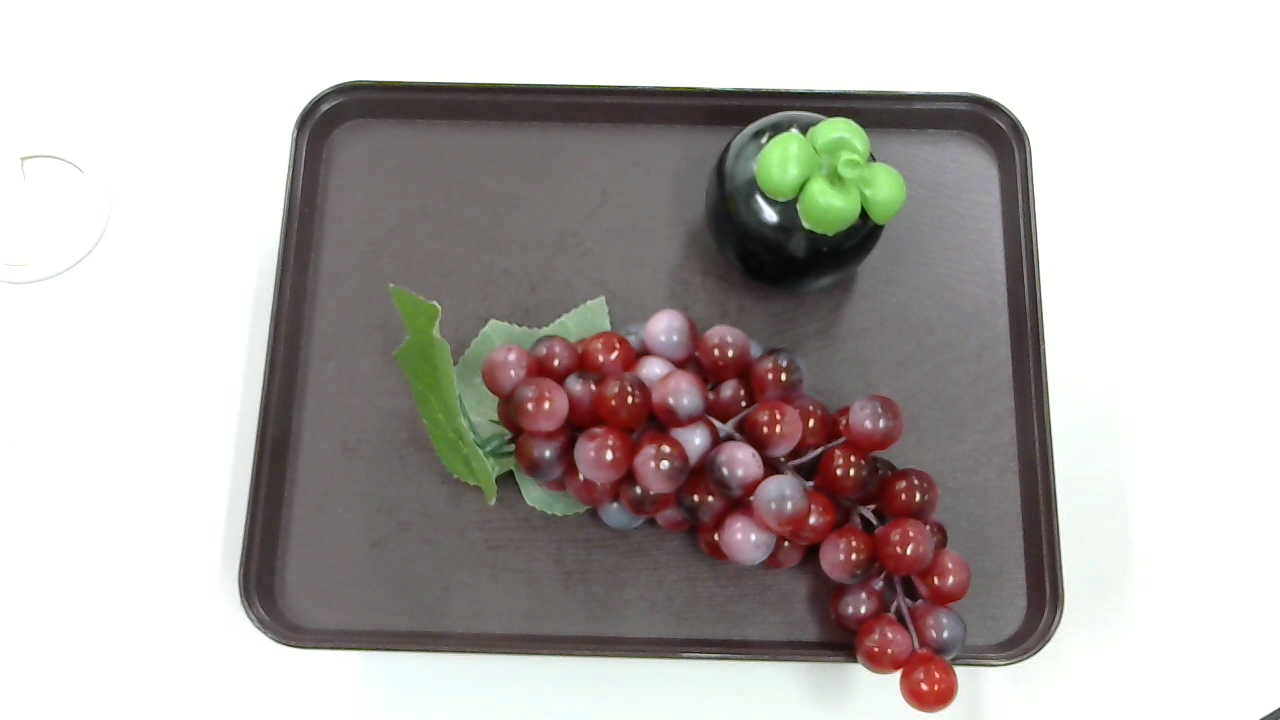grape: (374, 278, 971, 720)
mangosteen: (708, 112, 920, 290)
